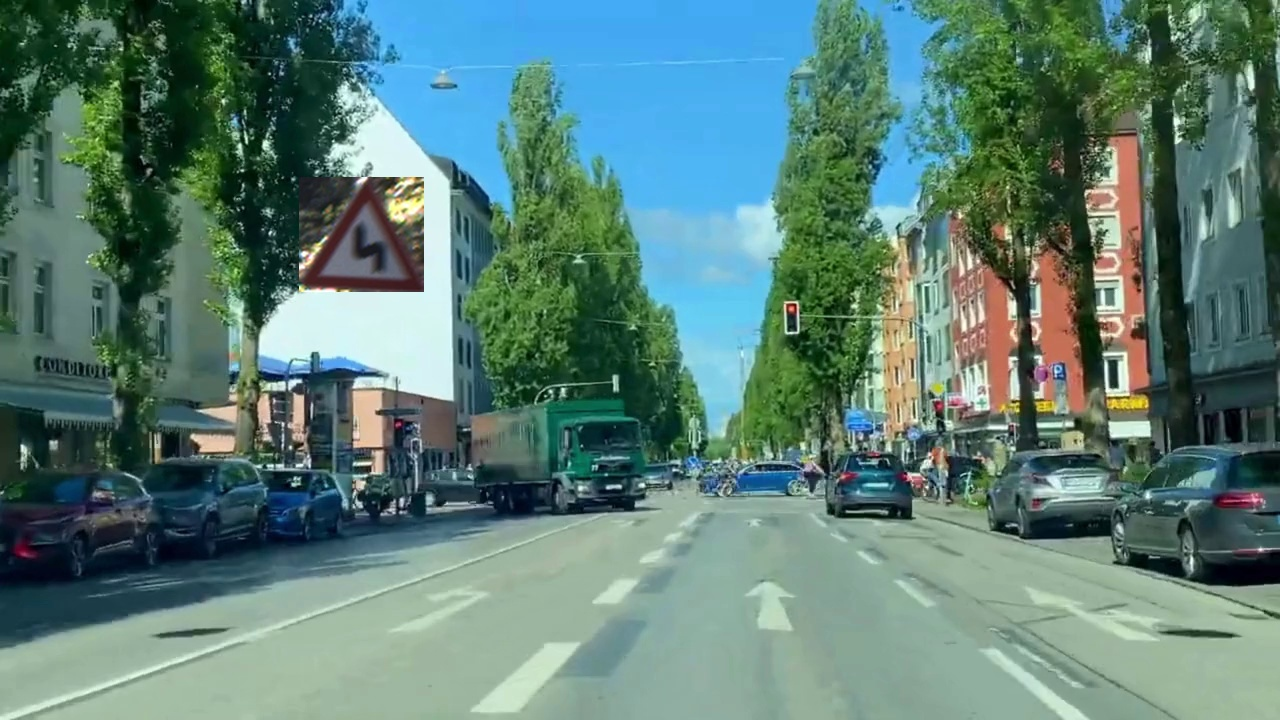Double curve: (299, 177, 424, 292)
